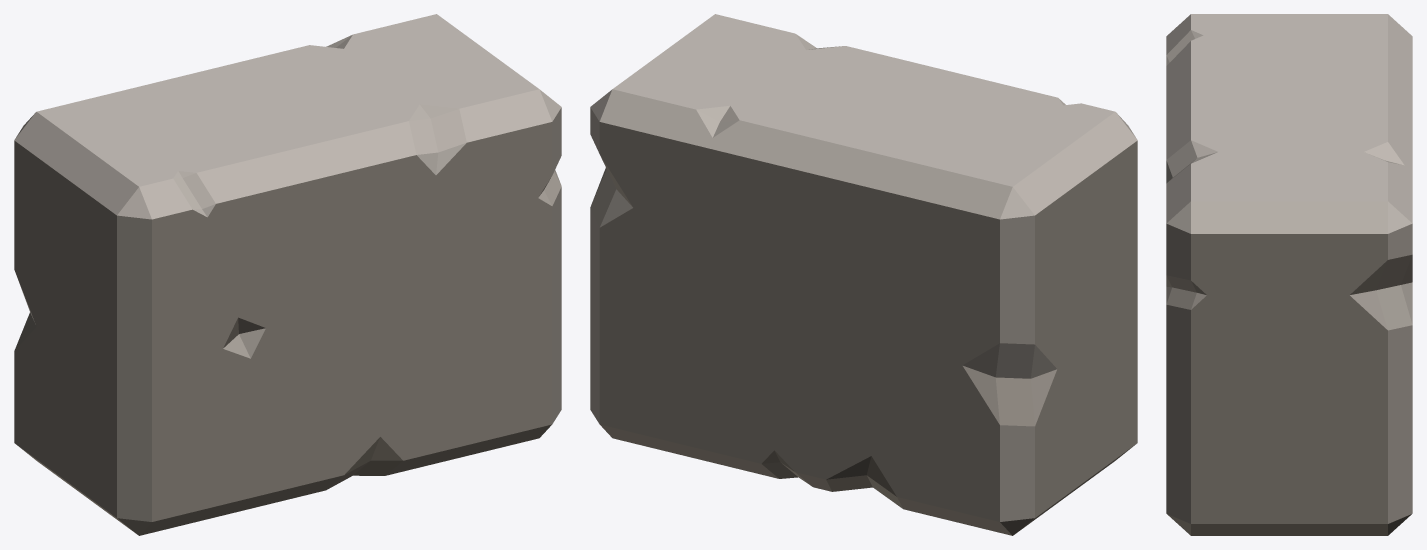
Rendered from m_kub_stone_halfMid.FBX.
3 views of the same model, side by side, from view 1: azimuth 30°, elevation 25°; view 2: azimuth 150°, elevation 25°; view 3: azimuth 270°, elevation 25° (orthographic). The views are drawn at different scales.
Visible parts, largest first — view 1: m_kub_stone_halfMid; view 2: m_kub_stone_halfMid; view 3: m_kub_stone_halfMid.
Boxes of the visible parts, left/top/right/bottom form: m_kub_stone_halfMid: left=14, top=14, right=561, bottom=535; m_kub_stone_halfMid: left=590, top=14, right=1137, bottom=535; m_kub_stone_halfMid: left=1166, top=14, right=1412, bottom=535.
Size of the model in its own units: 2 by 1.5 by 1.
